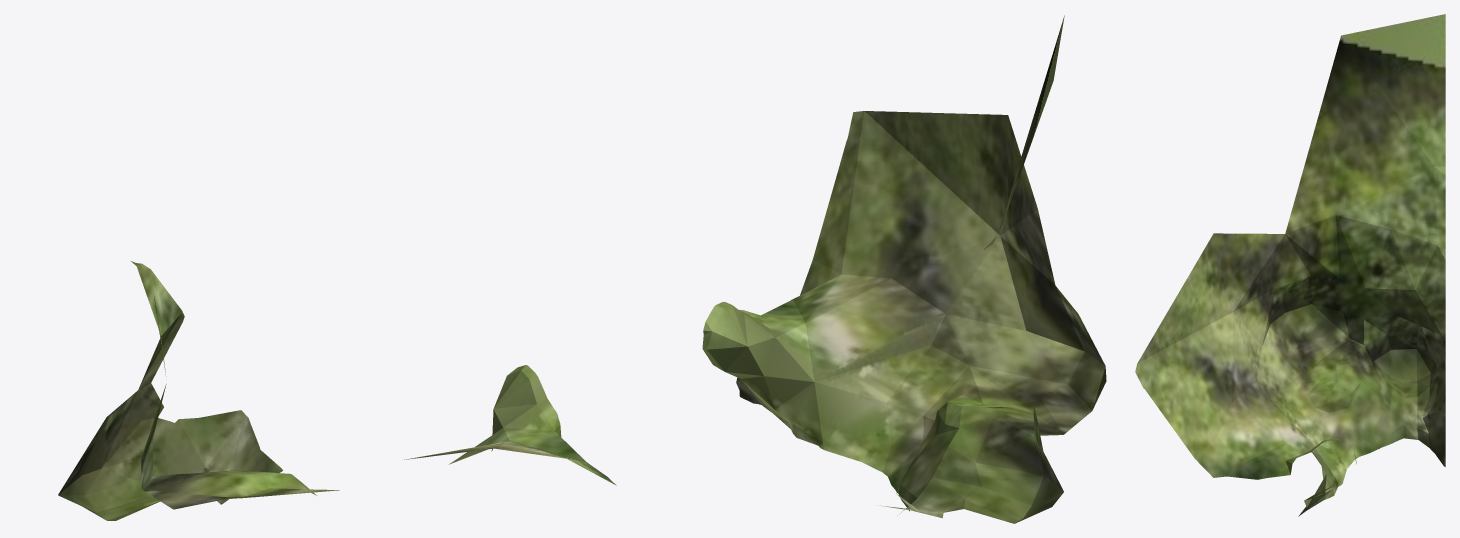
The picture shows the model from 3 angles, left to right: view 1: azimuth 30°, elevation 25°; view 2: azimuth 150°, elevation 25°; view 3: azimuth 270°, elevation 25°; orthographic projection. The views are drawn at different scales.
Size of the model in its own units: 13.25 by 15.18 by 11.79.
1 material, 1 textured.
